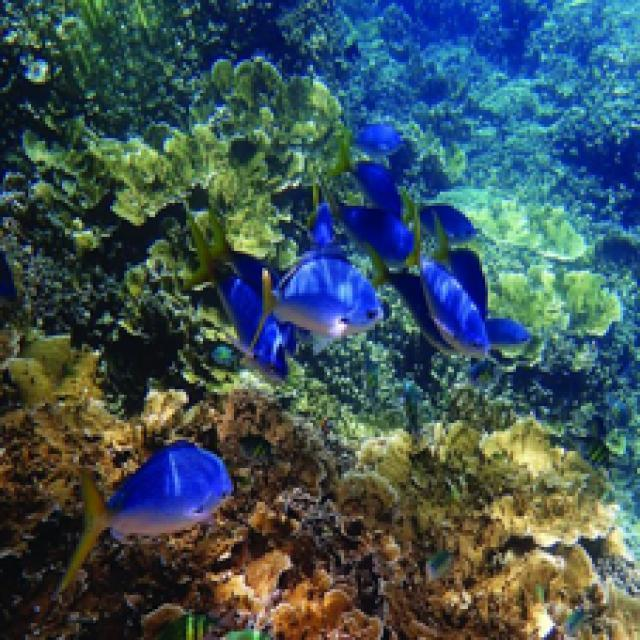Dead Coral: (236, 417, 623, 640), (58, 49, 342, 253), (444, 0, 637, 176), (0, 354, 150, 522)
